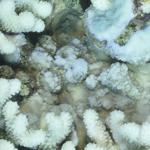alive: (6, 3, 148, 148)
